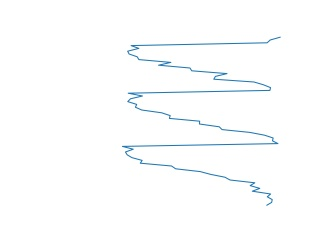distributaryMouthBar: (120, 33, 282, 208)
